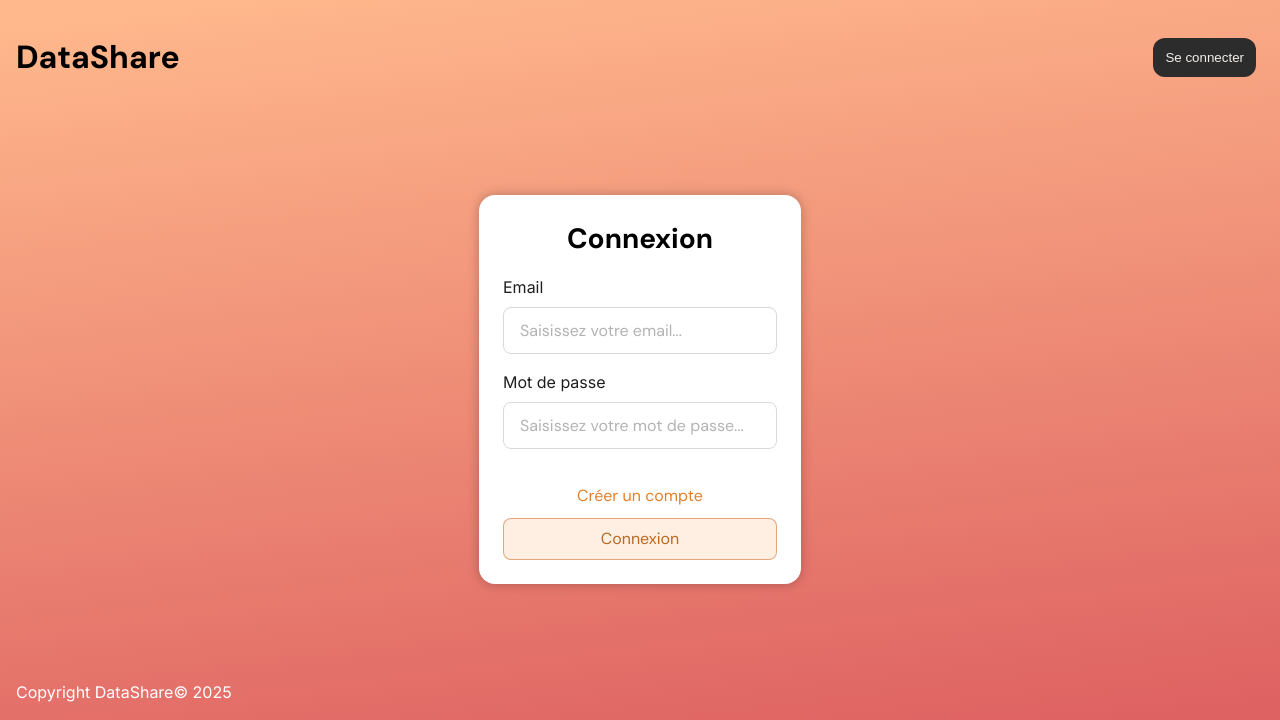
Login tests › Login a bad user email should return an error
Type "bad-email" into the field with test id "login-input-email" at (640, 331), box left=503, top=307, right=777, bottom=354
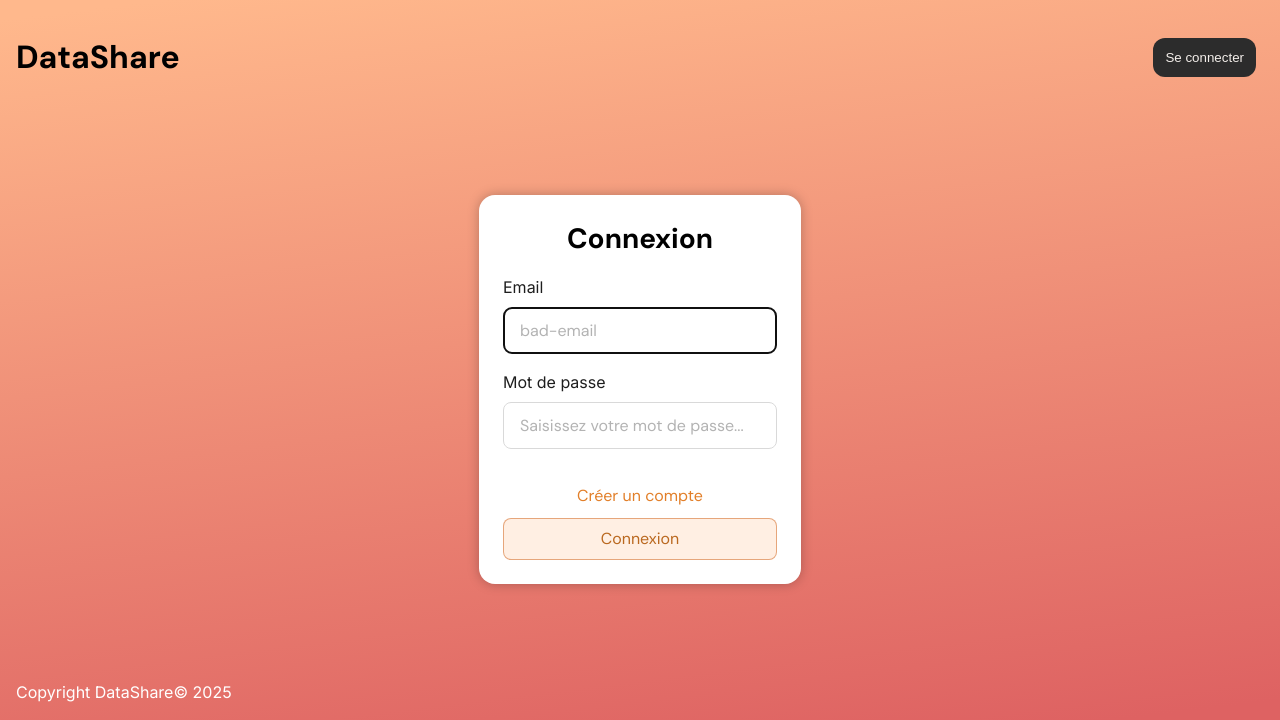
Click the button with test id "login-button-submit" at (640, 539), box left=503, top=518, right=777, bottom=560
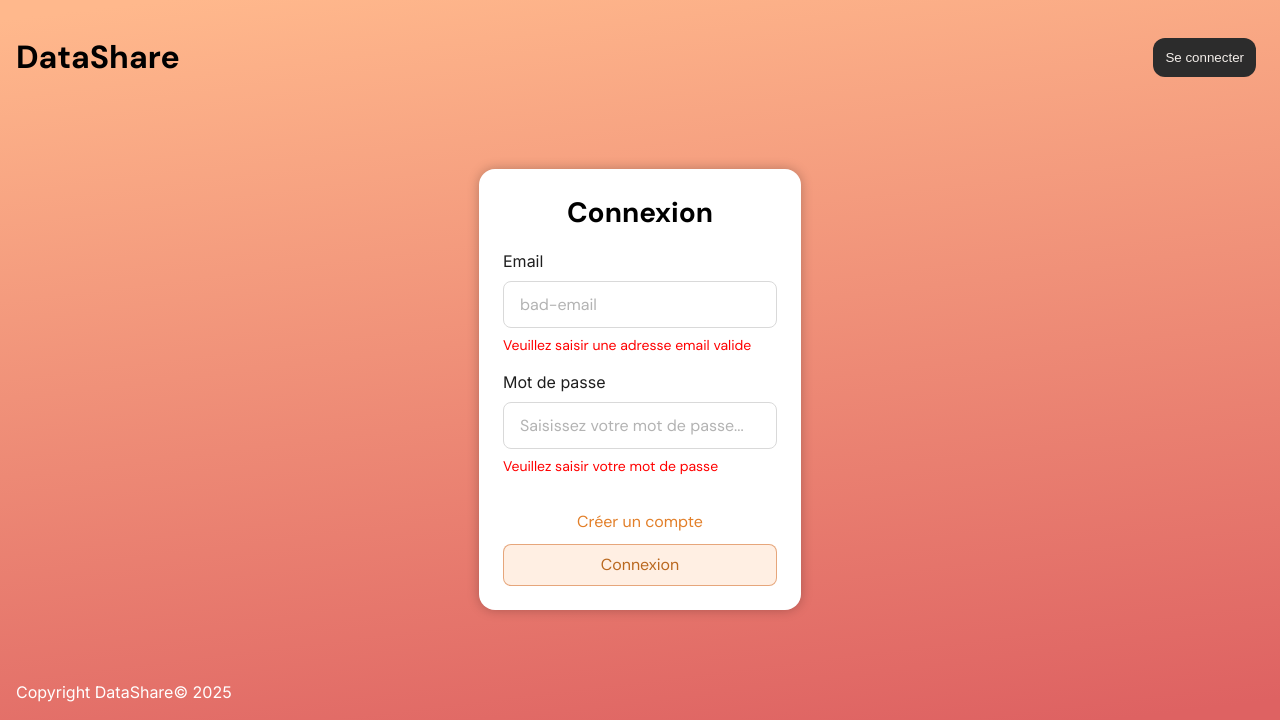
Result: the element with test id "invalid-feedback-email" reads "Veuillez saisir une adresse email valide" at left=503, top=336, right=751, bottom=354
